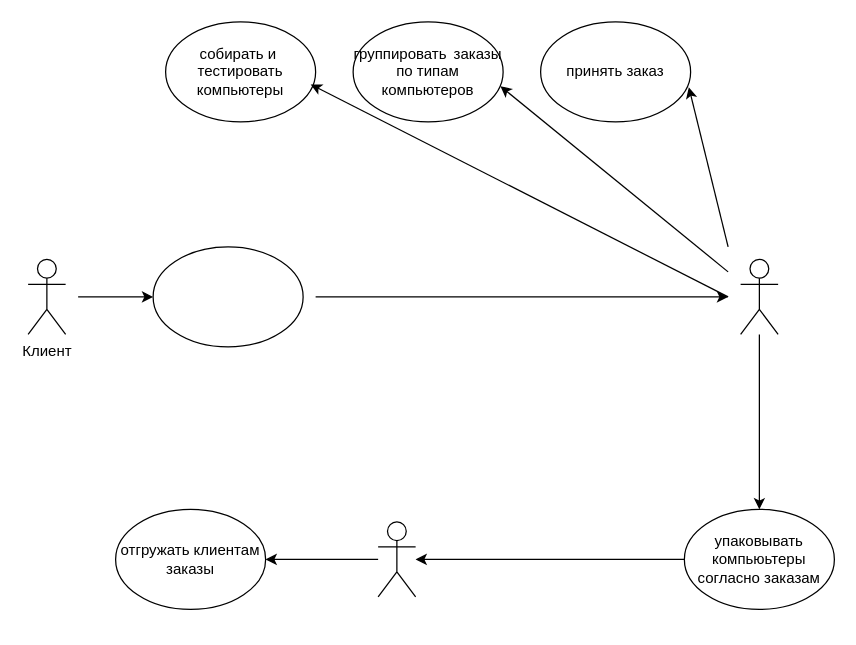
Some shapes in this 856 by 645 pixel diagram are drawn without their labels. The shapes that lost their labels are listed below. From the top down, each one's box as (x1, y1, x2, y2) in pixels, then its label:
(152, 246, 303, 347): создание заказа на компьютер
(739, 258, 778, 334): Сотрудник
(377, 521, 416, 597): Кладовщик
